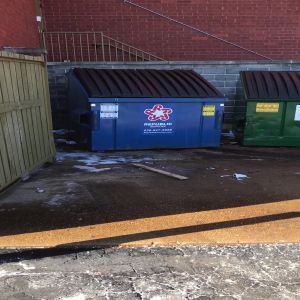Dumpster: (64, 66, 227, 152), (232, 68, 300, 144)
